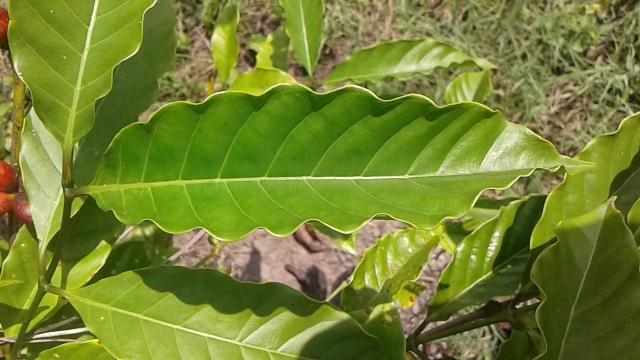healthy: (92, 80, 606, 246)
